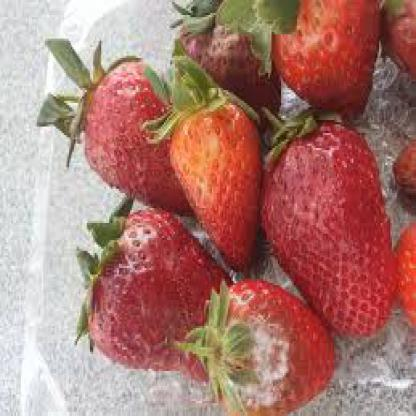strawberry_rotten: (64, 180, 354, 414)
